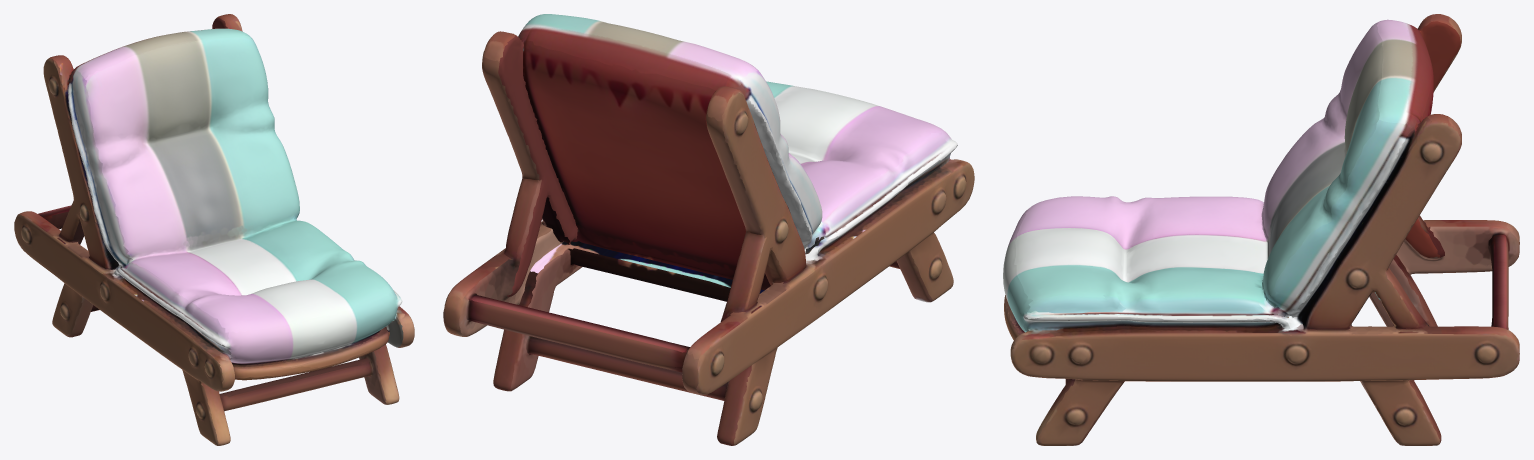
File: chair_v2.glb
3 renders of one model, left to right at view 1: azimuth 30°, elevation 25°; view 2: azimuth 150°, elevation 25°; view 3: azimuth 270°, elevation 25°, orthographic. The views are drawn at different scales.
Parts seen in each view (by area): view 1: tmpdzrlv1uv.ply; view 2: tmpdzrlv1uv.ply; view 3: tmpdzrlv1uv.ply.
Part boxes in pixels (x1,y1,x2,y2): tmpdzrlv1uv.ply: (14, 14, 414, 445); tmpdzrlv1uv.ply: (443, 14, 974, 445); tmpdzrlv1uv.ply: (1003, 14, 1519, 445).
Bounding box in the file's own units: 0.5356 × 0.712 × 0.9876.
Materials: 1 (1 with a texture image).
